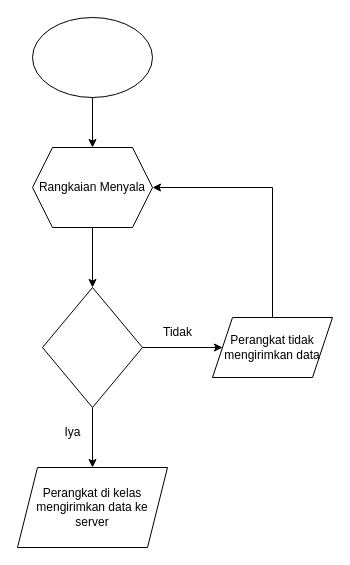
Some shapes in this 350 by 565 pixel diagram are drawn without their labels. Each missing label, with the centre of its shape:
Push Button di Tekan: the point at 92,347
START: the point at 92,57
